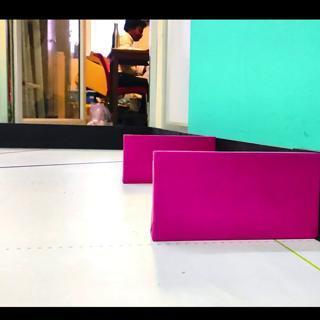xparking: (152, 156, 304, 238), (125, 134, 150, 184)
